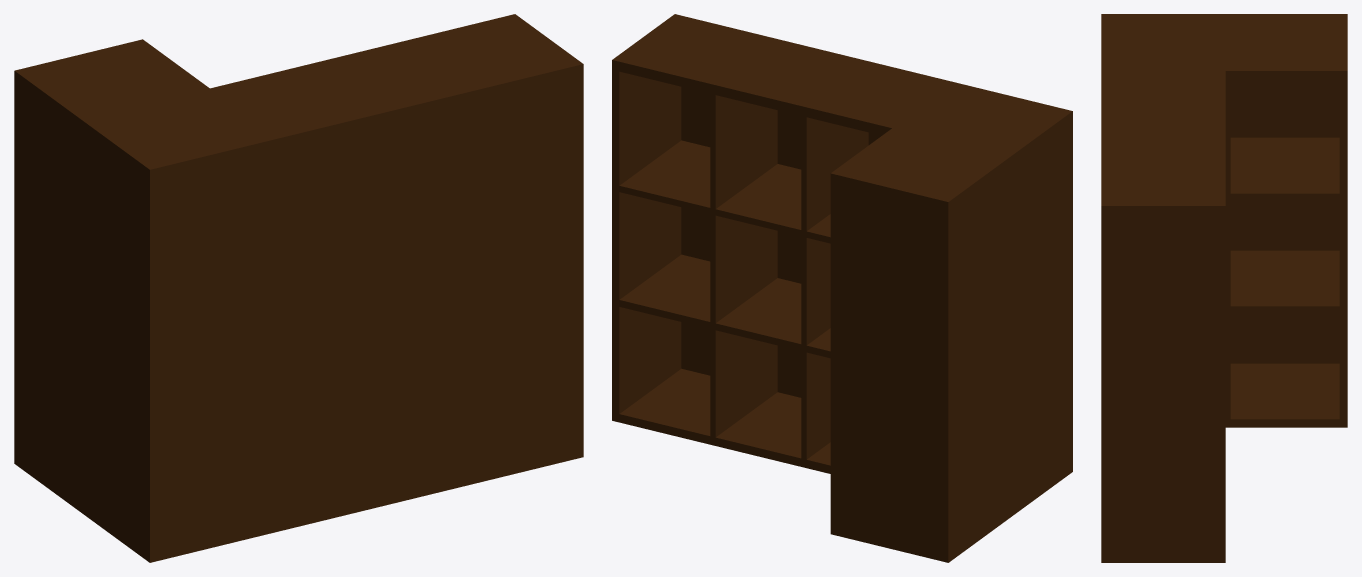
File: Cubby.fbx
3 renders of one model, left to right at view 1: azimuth 30°, elevation 25°; view 2: azimuth 150°, elevation 25°; view 3: azimuth 270°, elevation 25°, orthographic. The views are drawn at different scales.
Visible parts, largest first — view 1: Cupboard; view 2: Cupboard; view 3: Cupboard.
Part boxes in pixels (x1,y1,x2,y2): Cupboard: (14, 14, 583, 562); Cupboard: (612, 14, 1072, 562); Cupboard: (1101, 14, 1347, 562).
Size of the model in its own units: 88.64 by 76.79 by 47.98.
